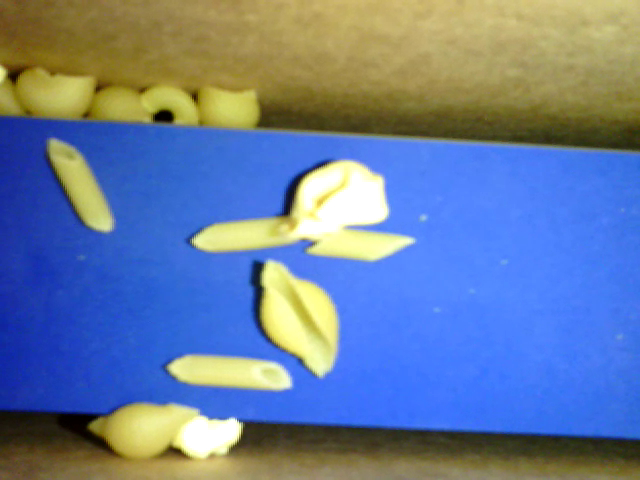elbow: (142, 81, 200, 123)
penne: (48, 140, 116, 235), (166, 355, 294, 390), (188, 216, 309, 251), (307, 227, 418, 263)
shell: (256, 260, 342, 380), (85, 400, 203, 462), (14, 67, 95, 120), (197, 80, 262, 128), (87, 84, 152, 123)
tortellini: (286, 157, 389, 232)
